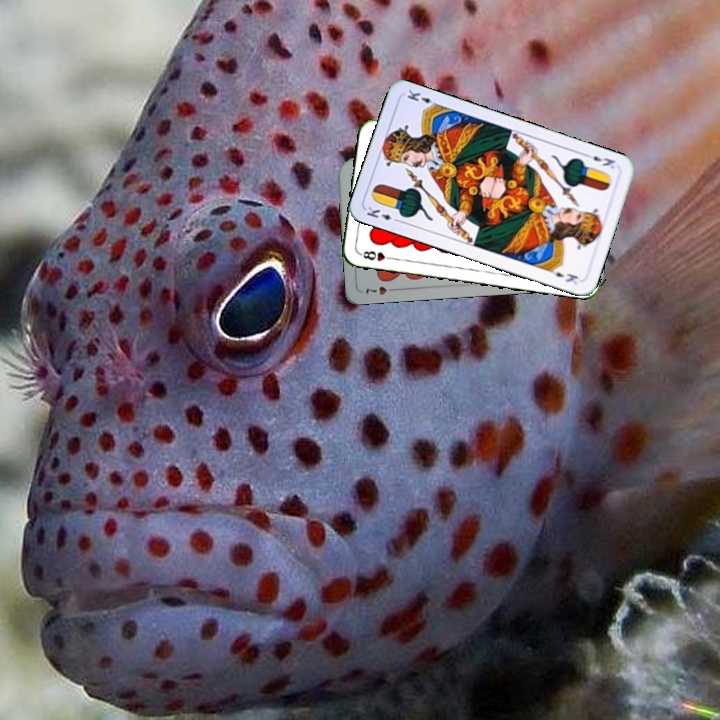EK: (363, 202, 402, 225), (581, 149, 618, 171)
H7: (361, 282, 400, 298)
H8: (356, 247, 397, 264)
